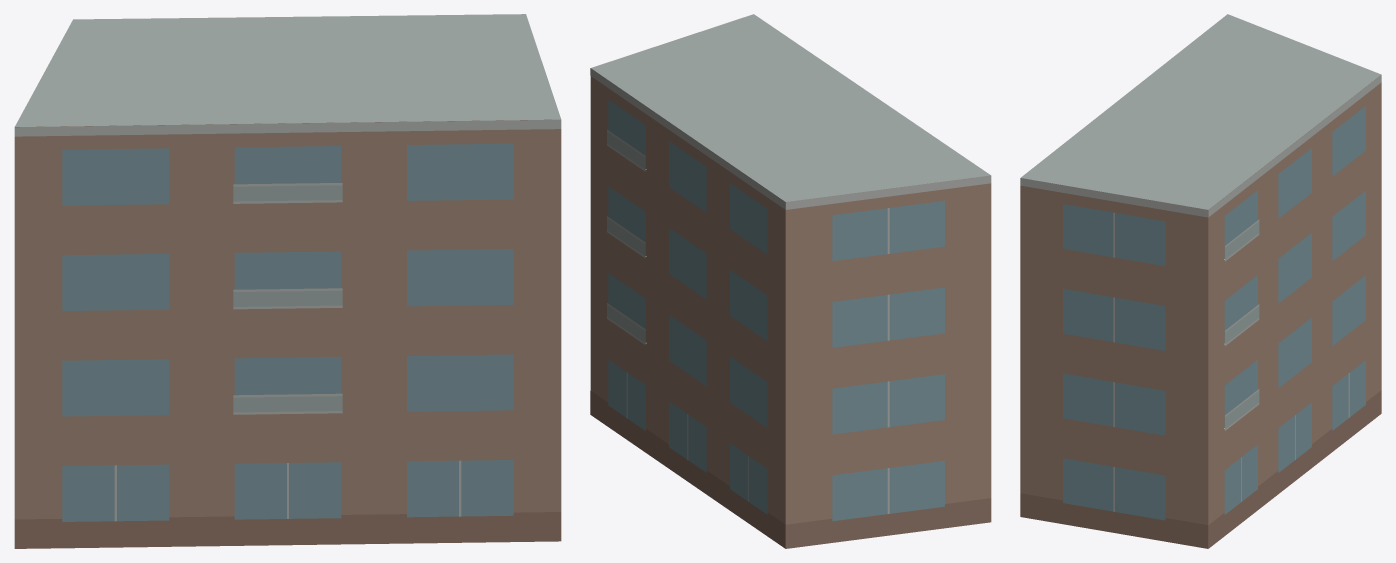
The model's file is survey-upis-32998480.glb.
3 renders of one model, left to right at view 1: azimuth 30°, elevation 25°; view 2: azimuth 150°, elevation 25°; view 3: azimuth 270°, elevation 25°, orthographic. The views are drawn at different scales.
Parts seen in each view (by area): view 1: survey-upis-32998480.tmp; view 2: survey-upis-32998480.tmp; view 3: survey-upis-32998480.tmp.
Boxes of the visible parts, x1,y1,x2,y2 form: survey-upis-32998480.tmp: (14, 14, 561, 548); survey-upis-32998480.tmp: (590, 14, 991, 548); survey-upis-32998480.tmp: (1020, 14, 1381, 548).
Bounding box in the file's own units: 13.39 × 10.8 × 10.44.
